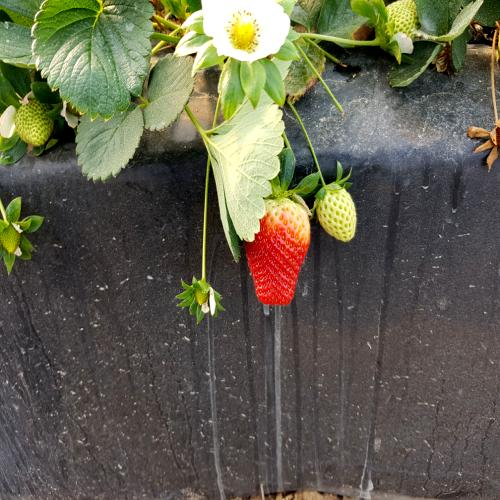ripe: (239, 181, 316, 313)
unripe: (315, 171, 361, 256)
